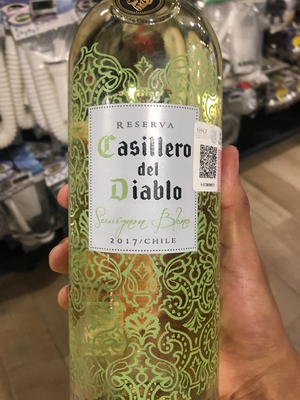casillero del diablo sauvignon blanc: (62, 18, 241, 398)
